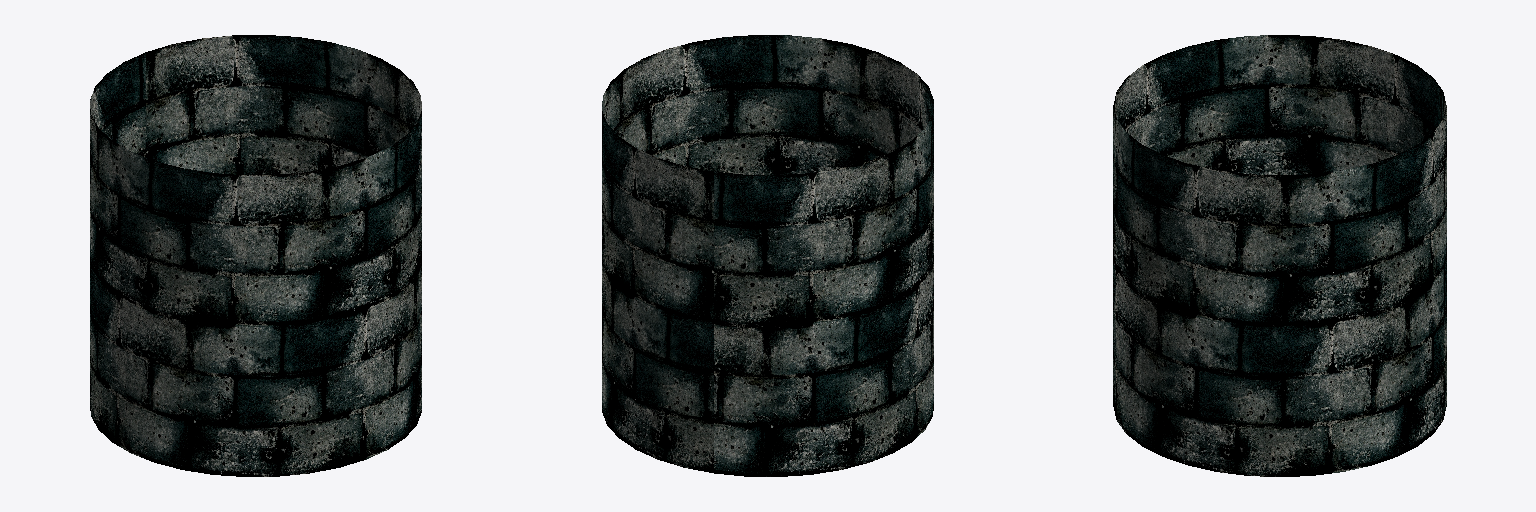
3 views of the same model, side by side, from view 1: azimuth 30°, elevation 25°; view 2: azimuth 150°, elevation 25°; view 3: azimuth 270°, elevation 25° (orthographic).
Parts seen in each view (by area): view 1: cylinder.001; view 2: cylinder.001; view 3: cylinder.001.
Part boxes in pixels (x1,y1,x2,y2): cylinder.001: (90, 35, 421, 476); cylinder.001: (602, 35, 933, 476); cylinder.001: (1113, 35, 1446, 476).
Bounding box in the file's own units: 5 × 5 × 5.
1 materials, 1 textured.